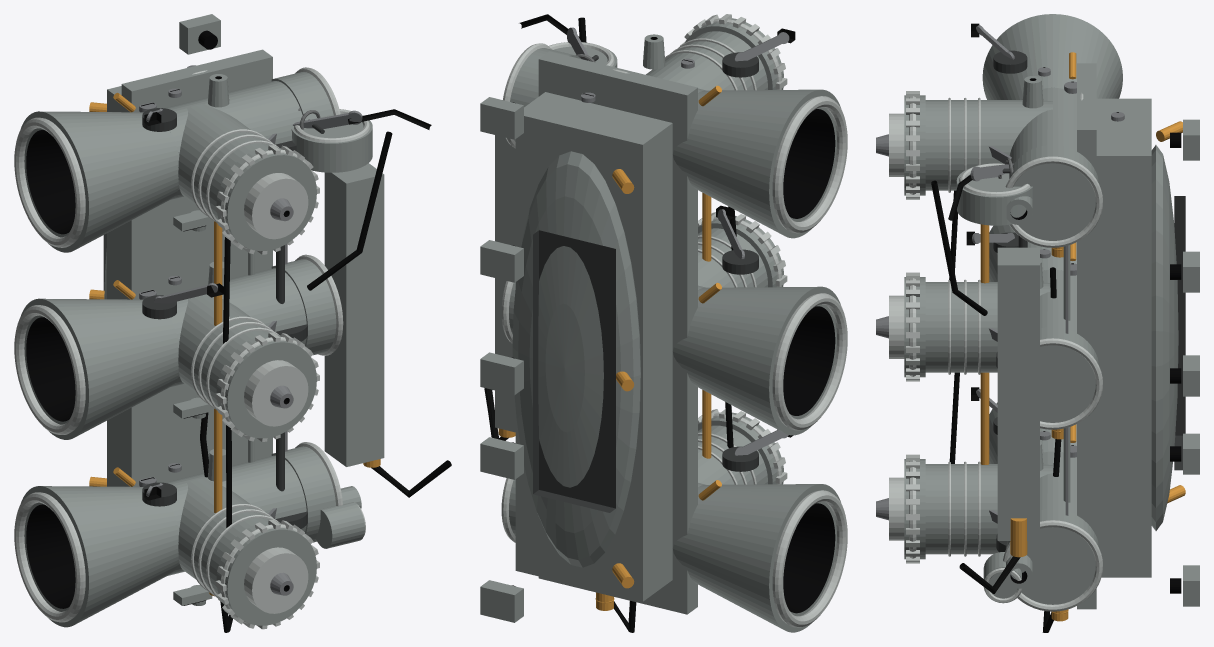
File: carb_triple_03_touring_diaphragm.obj
The picture shows the model from 3 angles, left to right: view 1: azimuth 30°, elevation 25°; view 2: azimuth 150°, elevation 25°; view 3: azimuth 270°, elevation 25°; orthographic projection. The views are drawn at different scales.
Visible parts, largest first — view 1: shared_base_plate, rear_balance_plenum, tour_0_bellmouth, tour_2_bellmouth, tour_1_bellmouth, tour_2_slide_tower, tour_0_slide_tower, tour_1_slide_tower, tour_0_cap_lower, tour_2_cap_lower, tour_1_cap_lower, tour_2_venturi_body (+29 smaller); view 2: touring_bowl_upper, touring_bowl_lower, shared_base_plate, tour_2_bellmouth, tour_0_bellmouth, tour_1_bellmouth, touring_lower_skid, mount_foot, tour_1_bellmouth_inner, tour_0_bellmouth_inner, tour_2_bellmouth_inner, rear_balance_plenum (+19 smaller); view 3: touring_bowl_upper, rear_balance_plenum, touring_bowl_lower, tour_2_bellmouth, tour_2_slide_tower, shared_base_plate, tour_0_slide_tower, tour_1_slide_tower, tour_2_rear_spigot, tour_0_rear_spigot, tour_1_rear_spigot, mount_foot (+30 smaller).
Part boxes in pixels (x1=…): shared_base_plate: x1=121, y1=49, x2=272, y2=575; rear_balance_plenum: x1=324, y1=163, x2=384, y2=466; tour_0_bellmouth: x1=41, y1=486, x2=178, y2=624; tour_2_bellmouth: x1=39, y1=111, x2=178, y2=249; tour_1_bellmouth: x1=40, y1=298, x2=178, y2=436; tour_2_slide_tower: x1=178, y1=104, x2=269, y2=219; tour_0_slide_tower: x1=178, y1=478, x2=269, y2=594; tour_1_slide_tower: x1=178, y1=294, x2=269, y2=406; tour_0_cap_lower: x1=216, y1=522, x2=316, y2=625; tour_2_cap_lower: x1=216, y1=147, x2=316, y2=251; tour_1_cap_lower: x1=216, y1=334, x2=316, y2=438; tour_2_venturi_body: x1=165, y1=81, x2=302, y2=199; touring_bowl_upper: x1=515, y1=92, x2=672, y2=601; touring_bowl_lower: x1=512, y1=151, x2=640, y2=567; shared_base_plate: x1=538, y1=51, x2=697, y2=614; tour_2_bellmouth: x1=672, y1=89, x2=818, y2=235; tour_0_bellmouth: x1=672, y1=484, x2=818, y2=629; tour_1_bellmouth: x1=672, y1=286, x2=820, y2=432; touring_lower_skid: x1=533, y1=230, x2=615, y2=512; mount_foot: x1=480, y1=97, x2=523, y2=622; tour_1_bellmouth_inner: x1=783, y1=306, x2=835, y2=415; tour_0_bellmouth_inner: x1=783, y1=503, x2=835, y2=613; tour_2_bellmouth_inner: x1=783, y1=109, x2=835, y2=218; rear_balance_plenum: x1=495, y1=135, x2=515, y2=432; touring_bowl_upper: x1=1096, y1=98, x2=1151, y2=577; rear_balance_plenum: x1=997, y1=247, x2=1039, y2=540; touring_bowl_lower: x1=1151, y1=145, x2=1178, y2=530; tour_2_bellmouth: x1=982, y1=14, x2=1122, y2=99; tour_2_slide_tower: x1=925, y1=100, x2=1052, y2=190; shared_base_plate: x1=1077, y1=63, x2=1096, y2=609; tour_0_slide_tower: x1=925, y1=464, x2=1052, y2=554; tour_1_slide_tower: x1=925, y1=282, x2=1050, y2=372; tour_2_rear_spigot: x1=1009, y1=145, x2=1099, y2=240; tour_0_rear_spigot: x1=1006, y1=508, x2=1099, y2=604; tour_1_rear_spigot: x1=1040, y1=327, x2=1099, y2=422; mount_foot: x1=1183, y1=119, x2=1199, y2=606.
Bounding box in the file's own units: 0.2852 × 0.4336 × 0.229.
